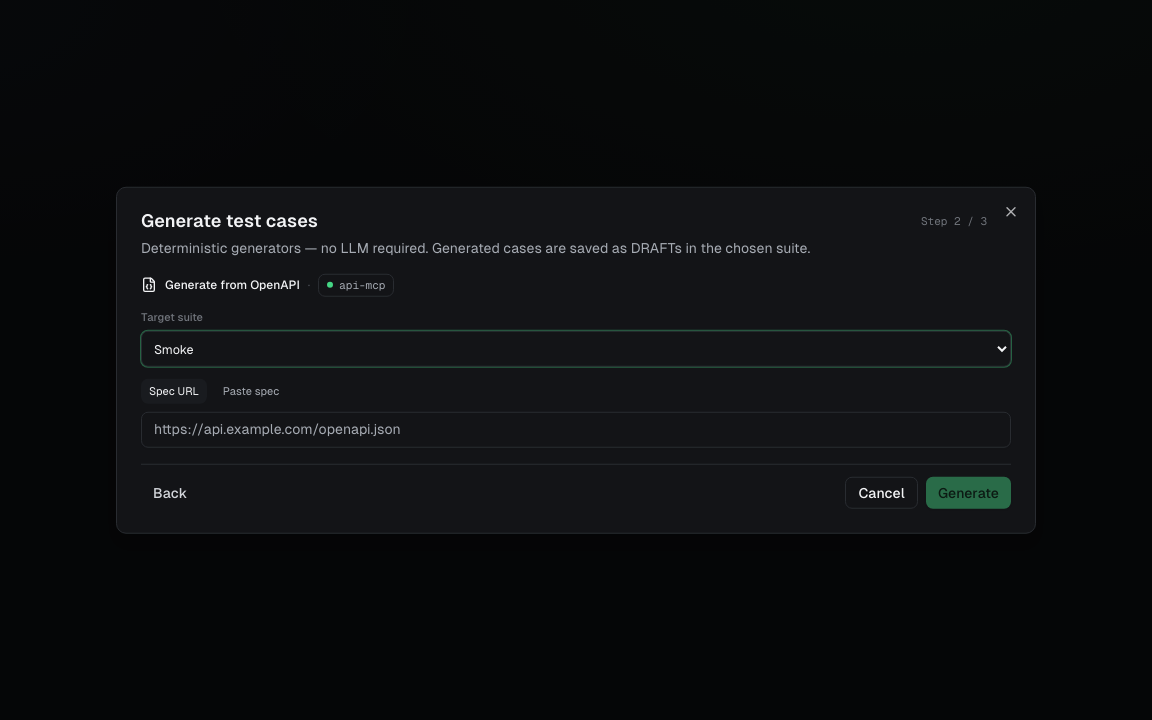
Test: GenerateModal › surfaces an in-band SSE error frame
The image size is (1152, 720).
Type "https://bad/spec.json" into the field with test id "gen-openapi-url" at (576, 429), box [141, 411, 1011, 447]
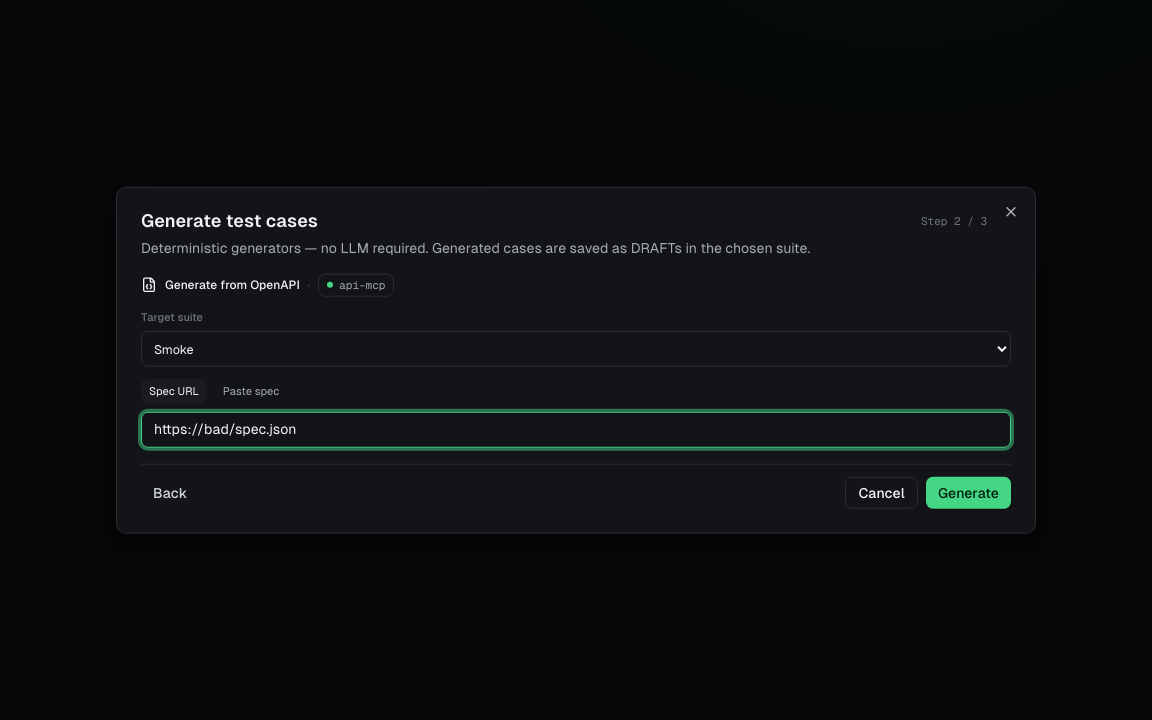
Click the button with test id "gen-run-btn" at (968, 492), box [926, 476, 1011, 508]
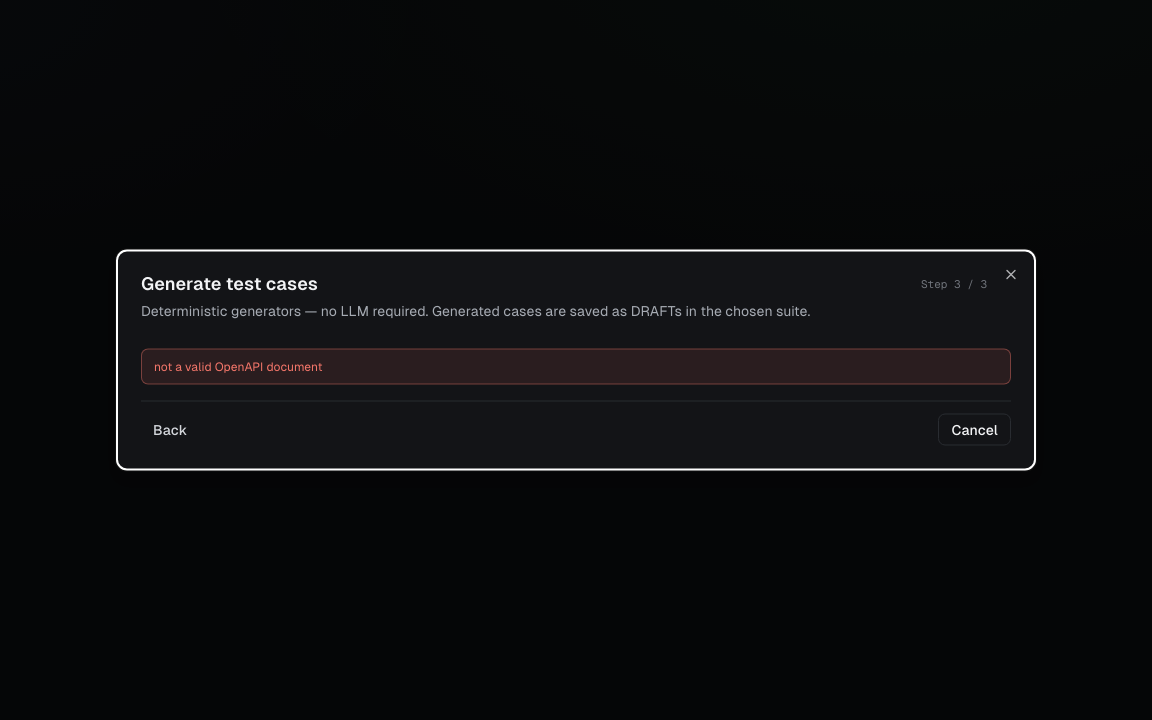
Check: the text with test id "gen-error" reads "not a valid OpenAPI document", box [154, 360, 322, 374]
